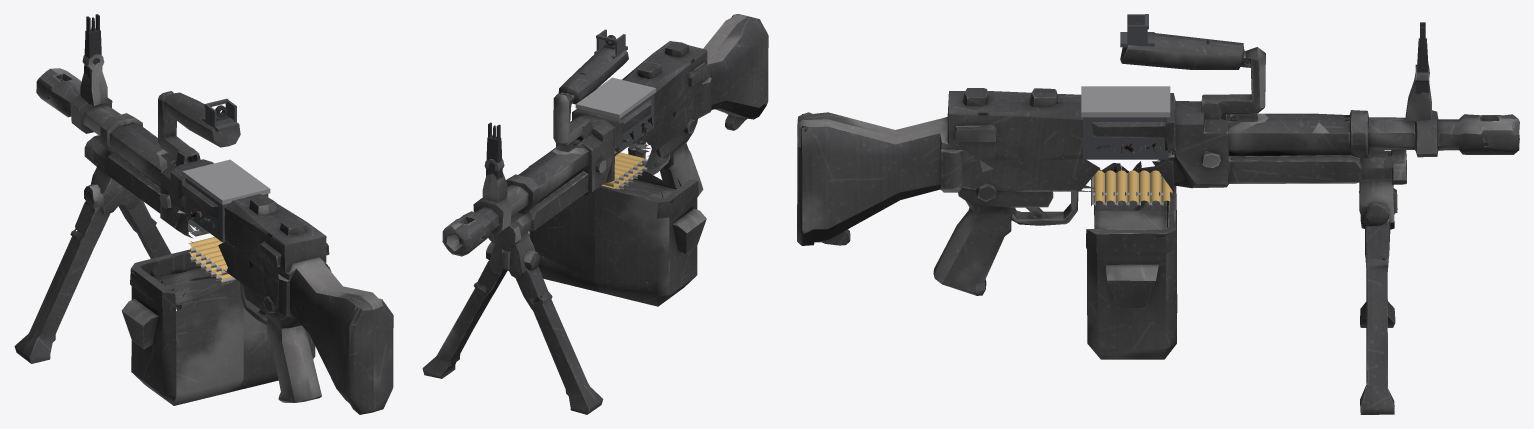
The model's file is lmg.glb.
3 renders of one model, left to right at view 1: azimuth 30°, elevation 25°; view 2: azimuth 150°, elevation 25°; view 3: azimuth 270°, elevation 25°, orthographic. The views are drawn at different scales.
Visible parts, largest first — view 1: lmg_world, aw_part_lmg_part_steel, aw_part_lmg_part_blued, aw_part_lmg_part_brass, front_tower; view 2: lmg_world, aw_part_lmg_part_steel, aw_part_lmg_part_blued, aw_part_lmg_part_brass, front_tower; view 3: lmg_world, aw_part_lmg_part_steel, aw_part_lmg_part_blued, aw_part_lmg_part_brass.
Part boxes in pixels (bbox=[...]): lmg_world: bbox=[14, 54, 393, 414]; aw_part_lmg_part_steel: bbox=[182, 159, 270, 283]; aw_part_lmg_part_blued: bbox=[184, 98, 268, 242]; aw_part_lmg_part_brass: bbox=[188, 237, 233, 284]; front_tower: bbox=[84, 28, 102, 77]; lmg_world: bbox=[422, 14, 768, 414]; aw_part_lmg_part_steel: bbox=[575, 77, 655, 189]; aw_part_lmg_part_blued: bbox=[577, 29, 654, 152]; aw_part_lmg_part_brass: bbox=[601, 152, 644, 189]; front_tower: bbox=[486, 135, 502, 179]; lmg_world: bbox=[797, 32, 1519, 414]; aw_part_lmg_part_steel: bbox=[1081, 86, 1170, 206]; aw_part_lmg_part_blued: bbox=[1083, 14, 1168, 159]; aw_part_lmg_part_brass: bbox=[1093, 170, 1172, 205].
Bounding box in the file's own units: 0.3436 × 0.5569 × 1.05.
Materials: 5 (1 with a texture image).
